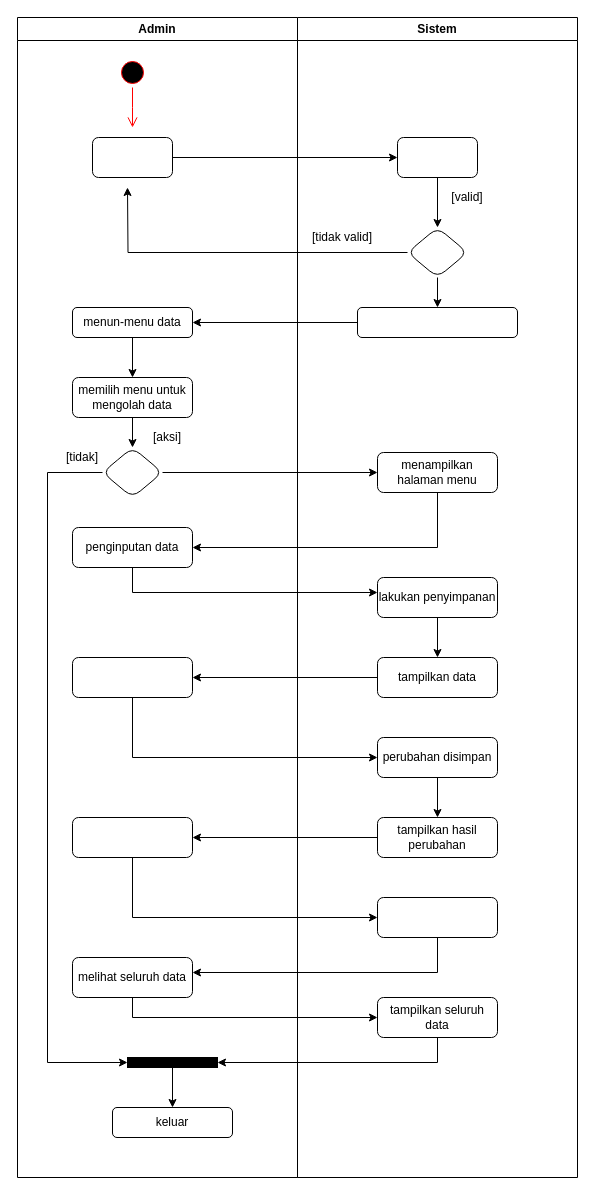
The diagram is 595 pixels wide and 1195 high, and some of its shapes have lost their labels. Each missing label, with the centre of its shape:
"cek validasi" goes at pixel 437 157.
"halaman dashboard" goes at pixel 437 322.
"hapus data yang dipilih" goes at pixel 437 917.
"masuk" goes at pixel 132 157.
"penghapusan data" goes at pixel 132 837.
"perubahan data" goes at pixel 132 677.
